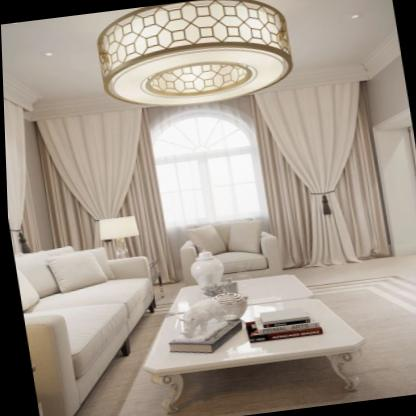Curtains: (250, 75, 390, 273), (34, 107, 161, 254)
Sofa: (9, 224, 172, 416)
